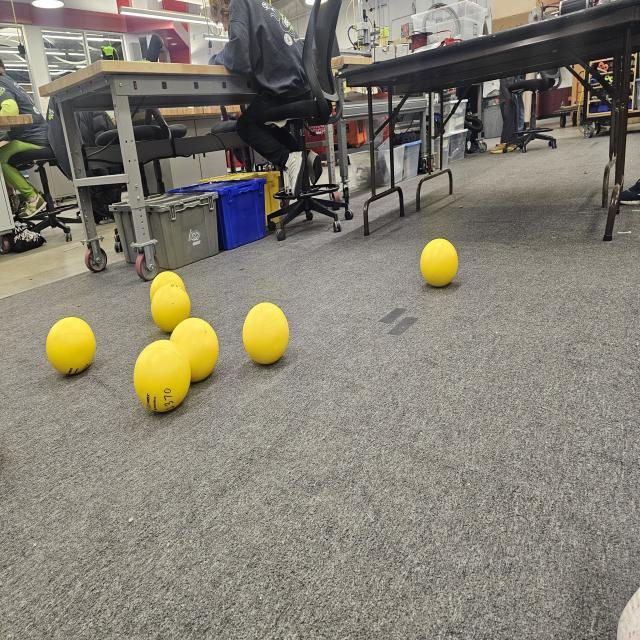Fuel: (133, 341, 191, 413), (170, 318, 218, 385), (242, 303, 290, 365), (46, 317, 96, 375), (151, 283, 191, 334), (420, 239, 458, 287), (150, 271, 185, 307)
